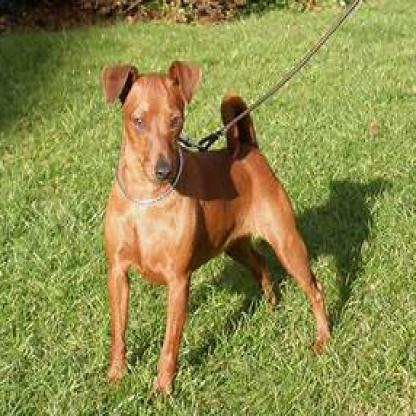dog: (100, 61, 330, 393)
